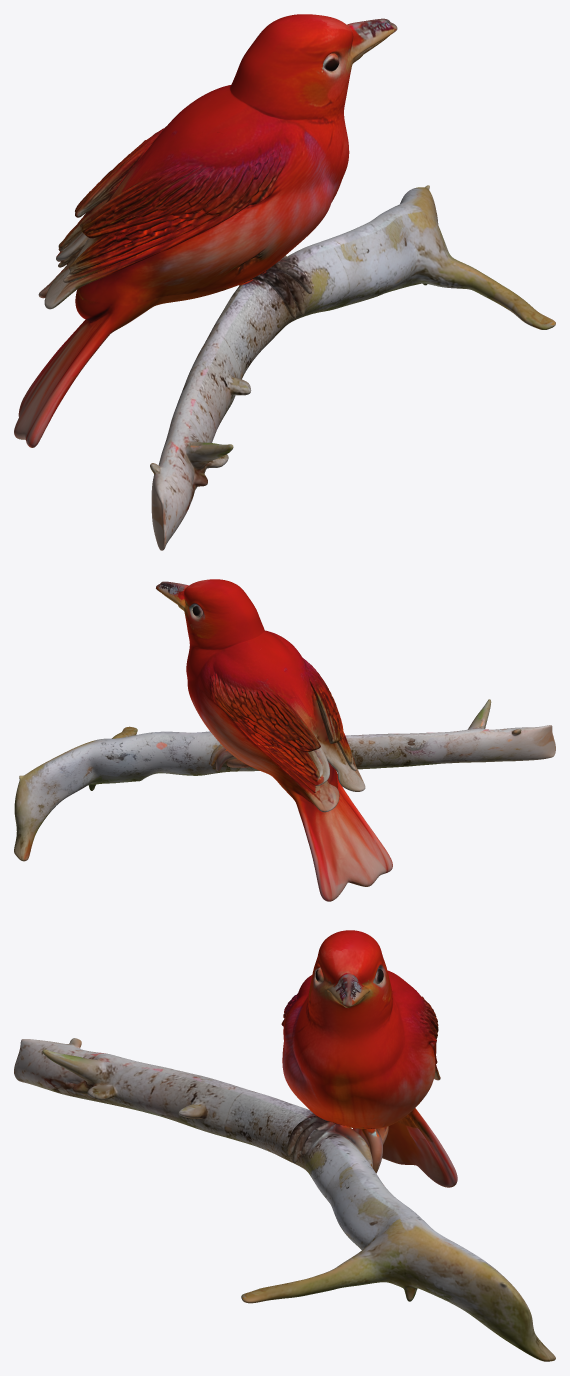
The model's file is nm__tanager.glb.
The picture shows the model from 3 angles, top to bottom: view 1: azimuth 30°, elevation 25°; view 2: azimuth 150°, elevation 25°; view 3: azimuth 270°, elevation 25°; orthographic projection. The views are drawn at different scales.
Visible parts, largest first — view 1: Object_2, Object_3; view 2: Object_2, Object_3; view 3: Object_2, Object_3.
Part boxes in pixels (x1,y1,x2,y2): Object_2: (14, 19, 555, 550); Object_3: (23, 14, 535, 550); Object_2: (14, 581, 555, 901); Object_3: (31, 579, 554, 900); Object_2: (17, 937, 555, 1361); Object_3: (14, 930, 457, 1284).
Bounding box in the file's own units: 0.8375 × 0.5743 × 0.8129.
1 material, 1 textured.
